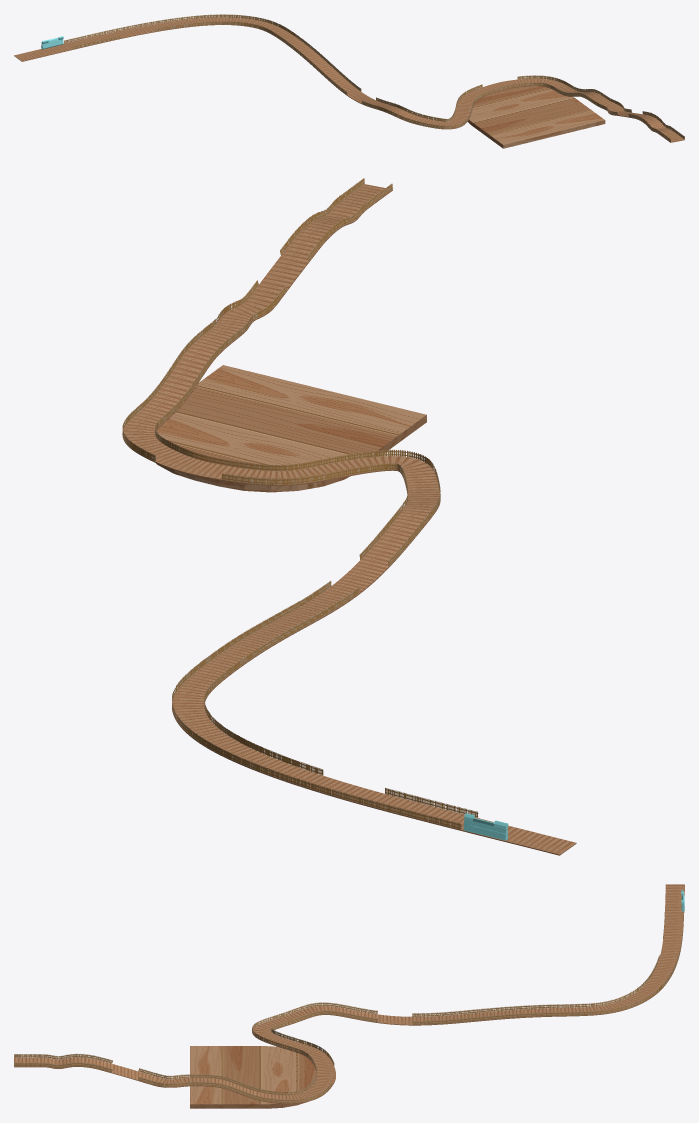
The model's file is track 12_A.fbx.
3 views of the same model, one above another, from view 1: azimuth 30°, elevation 25°; view 2: azimuth 150°, elevation 25°; view 3: azimuth 270°, elevation 25° (orthographic). The views are drawn at different scales.
Visible parts, largest first — view 1: Cube, Cube.003, Cube.001; view 2: Cube, Cube.003, Cube.001; view 3: Cube, Cube.003, Cube.001.
Boxes of the visible parts, x1,y1,x2,y2 form: Cube: (14, 17, 684, 142); Cube.003: (468, 86, 605, 148); Cube.001: (64, 14, 684, 141); Cube: (122, 184, 576, 855); Cube.003: (156, 365, 426, 492); Cube.001: (122, 178, 478, 829); Cube: (14, 884, 684, 1103); Cube.003: (190, 1046, 316, 1108); Cube.001: (14, 912, 683, 1103).
Bounding box in the file's own units: 14073 × 1534 × 18048.
3 materials, 3 textured.
